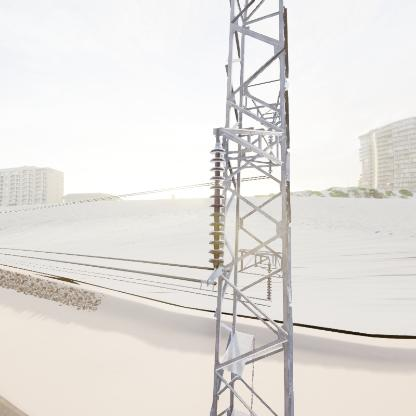insulator: (207, 145, 226, 275)
